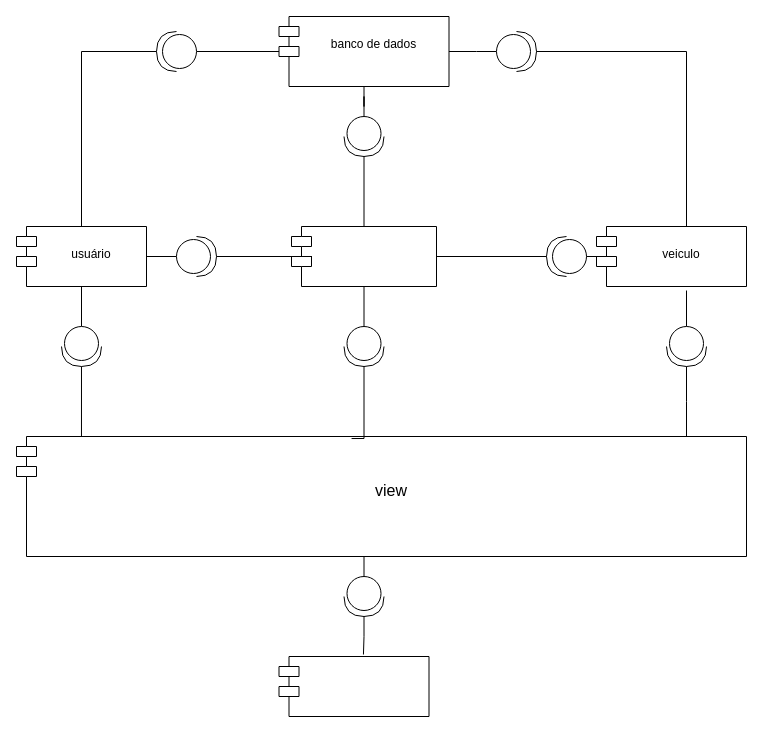
Image size: 763x733. Some labels were removed from this diagram. Each missing label, with the box of its shape:
cliente: (278, 656, 429, 716)
pedido: (290, 226, 436, 286)
